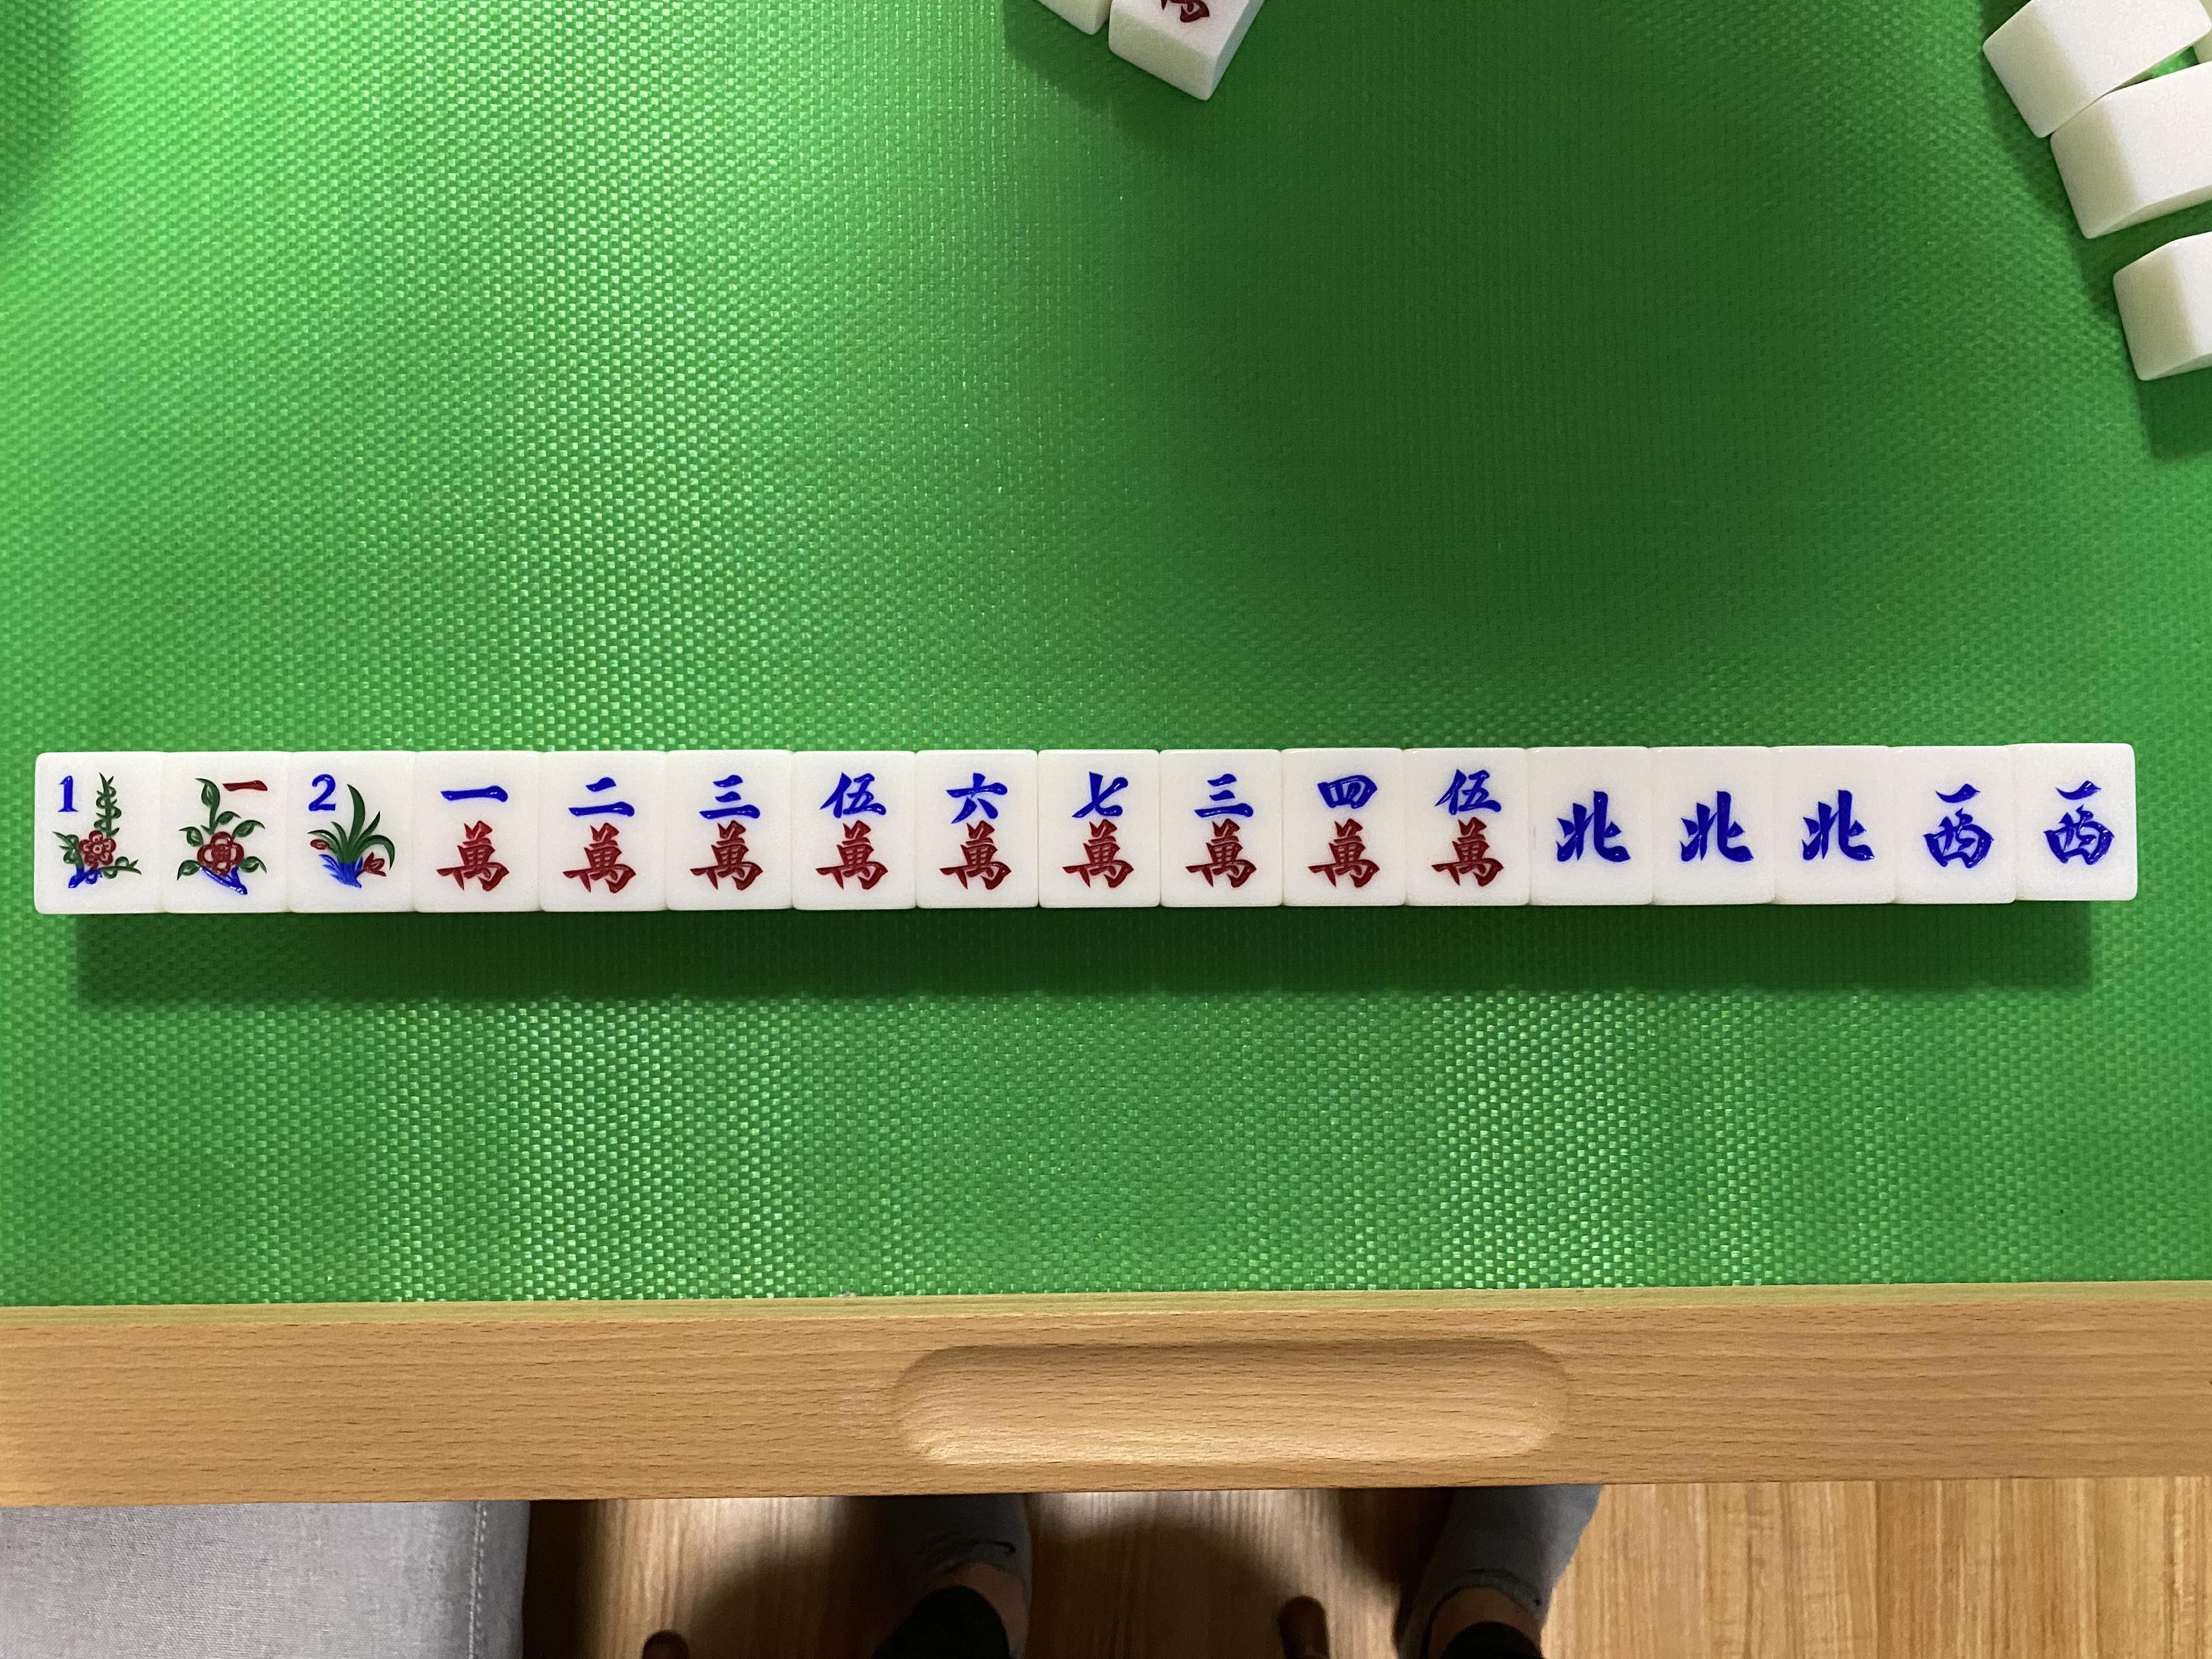character-five: (1406, 749, 1527, 901), (792, 751, 913, 904)
character-four: (1282, 749, 1402, 903)
character-one: (411, 755, 536, 906)
character-seven: (1038, 751, 1158, 903)
character-six: (916, 749, 1033, 904)
character-three: (667, 753, 791, 903), (1162, 749, 1280, 904)
character-two: (542, 755, 665, 906)
flower-blue_one: (291, 756, 408, 903), (40, 756, 152, 906)
flower-red_one: (165, 756, 284, 908)
honor-north_wind: (1527, 751, 1651, 903), (1773, 746, 1892, 901), (1655, 746, 1771, 899)
honor-west_wind: (1892, 749, 2017, 901), (2017, 746, 2137, 901)
